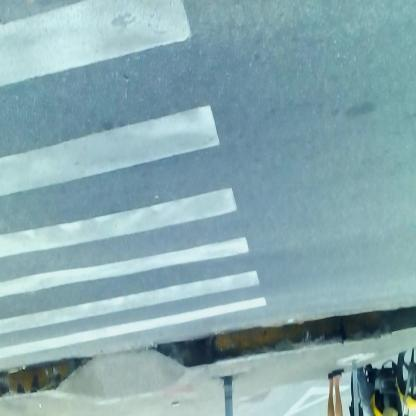crosswalk: (3, 2, 274, 318)
sidewalk: (4, 313, 410, 414)
